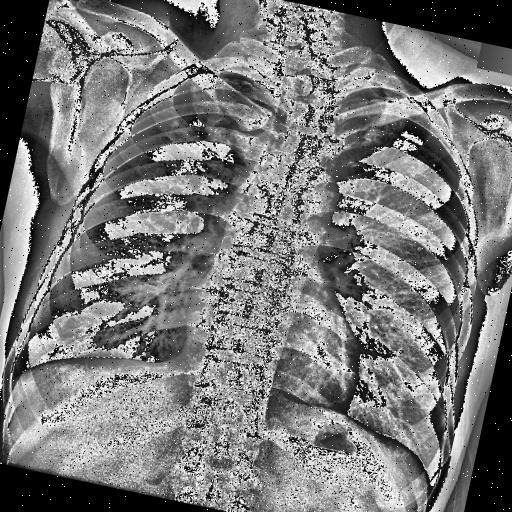2- Calcification: (169, 118, 179, 130)
8- Nodule-Mass: (170, 118, 180, 127), (170, 118, 178, 127)
9- Other lesion: (170, 118, 180, 127)
